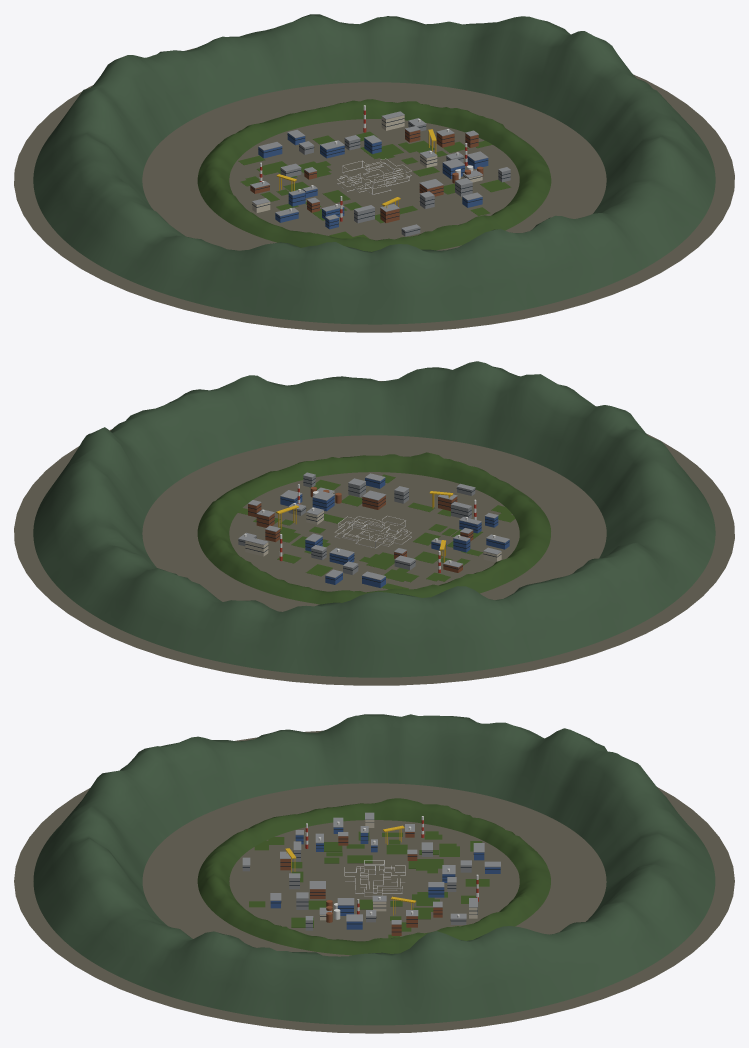
The model's file is factory_detail.glb.
3 renders of one model, top to bottom at view 1: azimuth 30°, elevation 25°; view 2: azimuth 150°, elevation 25°; view 3: azimuth 270°, elevation 25°, orthographic.
Parts seen in each view (by area): view 1: Far_mountain, Far_ground, Far_hill, Far_grey, Far_grass, Far_blue, Far_rust, Far_window, Far_cream; view 2: Far_mountain, Far_ground, Far_hill, Far_grey, Far_grass, Far_blue, Far_rust, Far_window, Far_cream; view 3: Far_mountain, Far_ground, Far_hill, Far_grass, Far_grey, Far_blue, Far_rust, Far_window.
Part boxes in pixels (left/top/right/bottom): Far_mountain: left=33, top=14, right=715, bottom=324; Far_ground: left=14, top=48, right=734, bottom=332; Far_hill: left=197, top=99, right=551, bottom=251; Far_grey: left=250, top=111, right=510, bottom=236; Far_grass: left=238, top=131, right=511, bottom=238; Far_blue: left=258, top=133, right=488, bottom=229; Far_rust: left=250, top=129, right=483, bottom=222; Far_window: left=250, top=118, right=510, bottom=232; Far_cream: left=252, top=115, right=482, bottom=212; Far_mountain: left=33, top=361, right=715, bottom=677; Far_ground: left=14, top=381, right=734, bottom=685; Far_hill: left=197, top=452, right=550, bottom=604; Far_grey: left=238, top=472, right=509, bottom=580; Far_grass: left=238, top=474, right=515, bottom=589; Far_blue: left=280, top=478, right=509, bottom=587; Far_rust: left=248, top=487, right=473, bottom=572; Far_window: left=238, top=478, right=509, bottom=582; Far_cream: left=245, top=492, right=501, bottom=562; Far_mountain: left=33, top=714, right=715, bottom=1025; Far_ground: left=14, top=730, right=734, bottom=1033; Far_hill: left=197, top=798, right=550, bottom=955; Far_grass: left=249, top=831, right=489, bottom=938; Far_grey: left=242, top=812, right=500, bottom=930; Far_blue: left=270, top=827, right=500, bottom=929; Far_rust: left=280, top=832, right=442, bottom=935; Far_window: left=242, top=822, right=500, bottom=932.
Size of the model in its own units: 1120 by 117 by 1120.
